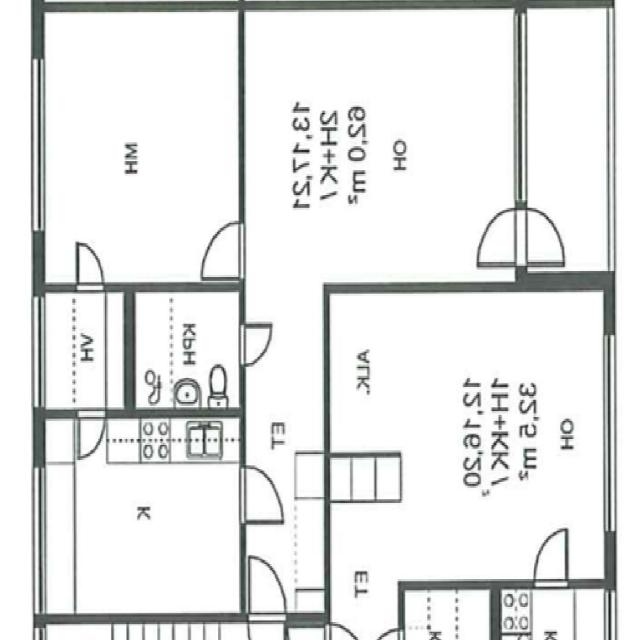door: (476, 209, 526, 265), (514, 209, 564, 265), (249, 558, 285, 624), (202, 224, 245, 278), (239, 468, 281, 522), (239, 325, 272, 366), (79, 408, 104, 455), (77, 244, 102, 290)
